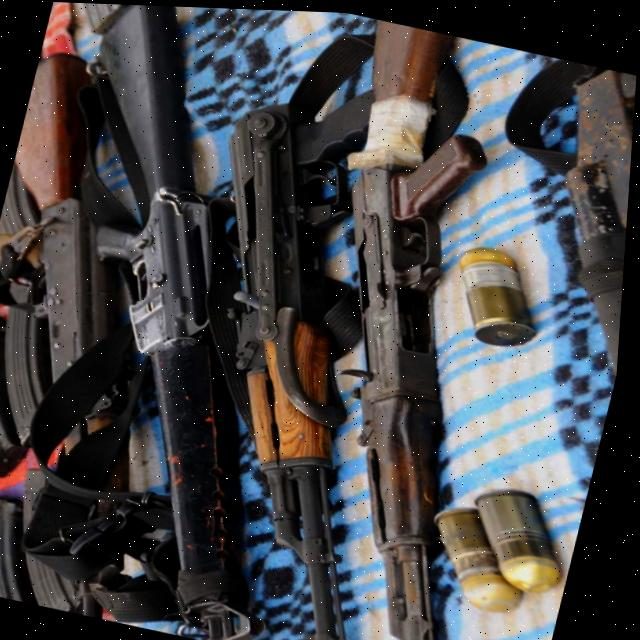firearm: (0, 0, 393, 640), (228, 12, 595, 640), (116, 58, 485, 640), (0, 49, 193, 433), (502, 55, 638, 375)
grenade: (435, 228, 560, 350), (457, 474, 587, 585), (408, 494, 526, 615)
